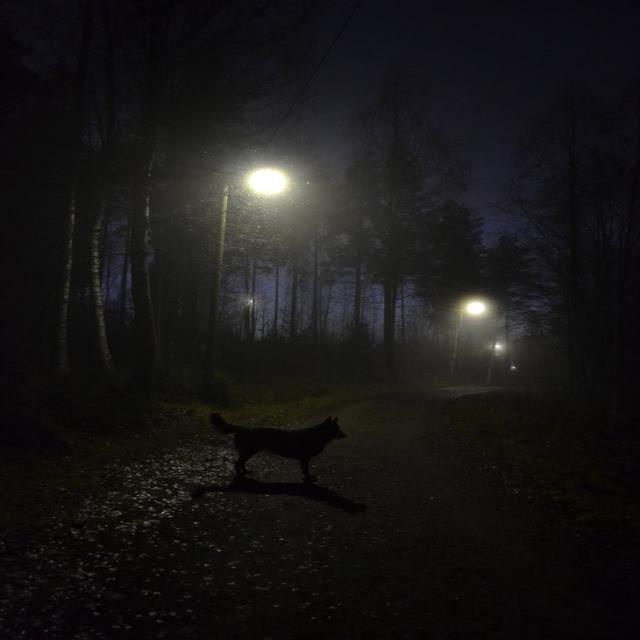Dog: (186, 379, 387, 506)
